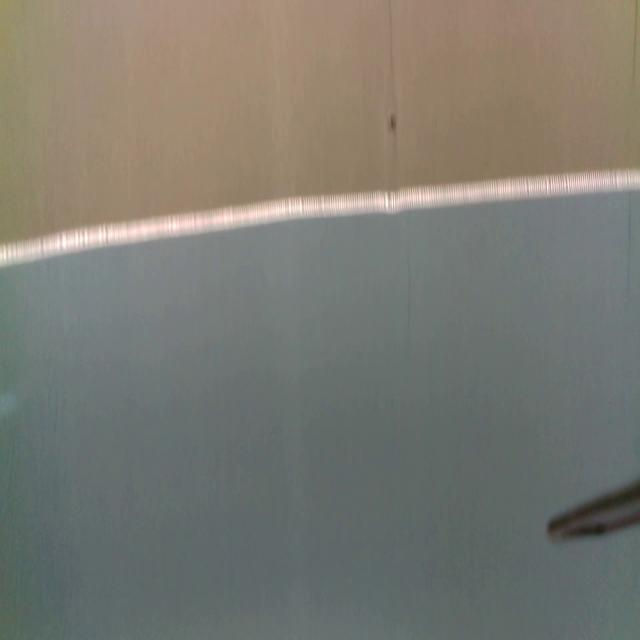crease: (384, 0, 396, 77)
hole: (389, 108, 397, 134)
